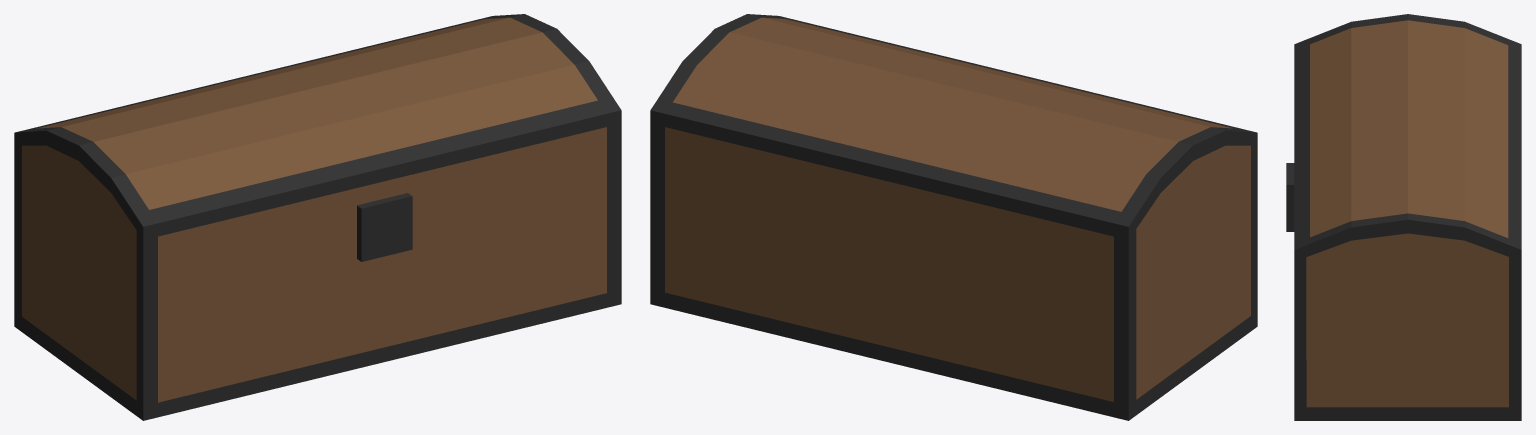
Rendered from Box_3_Brown.fbx.
3 renders of one model, left to right at view 1: azimuth 30°, elevation 25°; view 2: azimuth 150°, elevation 25°; view 3: azimuth 270°, elevation 25°, orthographic. The views are drawn at different scales.
Visible parts, largest first — view 1: Box_3_Brown_Part_1, Box_3_Brown_Part_2; view 2: Box_3_Brown_Part_1, Box_3_Brown_Part_2; view 3: Box_3_Brown_Part_1, Box_3_Brown_Part_2.
Boxes of the visible parts, <box> form: Box_3_Brown_Part_1: <box>22,17,606,402</box>; Box_3_Brown_Part_2: <box>14,14,621,420</box>; Box_3_Brown_Part_1: <box>665,17,1250,401</box>; Box_3_Brown_Part_2: <box>650,14,1257,420</box>; Box_3_Brown_Part_1: <box>1306,20,1508,407</box>; Box_3_Brown_Part_2: <box>1286,14,1521,420</box>.
Bounding box in the file's own units: 150 × 68.44 × 72.5.
